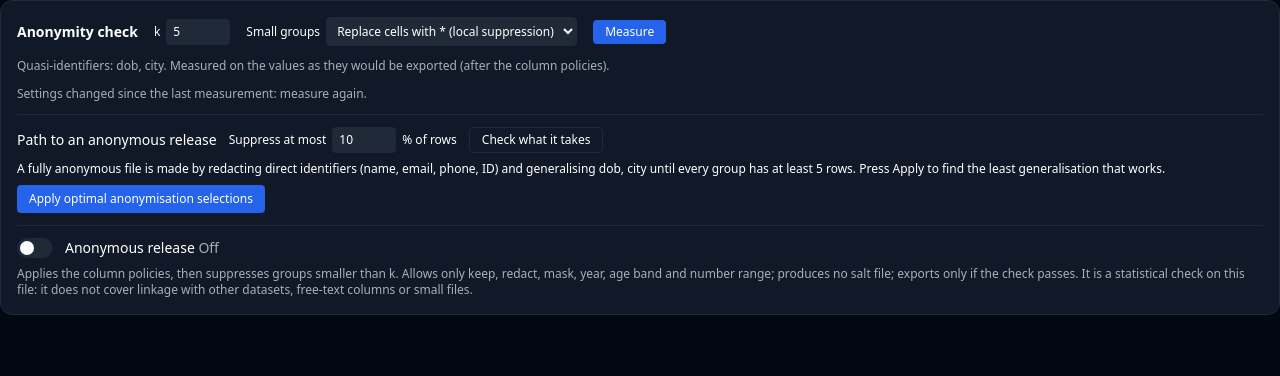
Test: AnonymityPanel › shows no blockers until the switch is on, then names the offending columns
Click the switch labelled "Anonymous release". click: point(118, 248)
box: top-left (17, 238), bottom-right (219, 258)
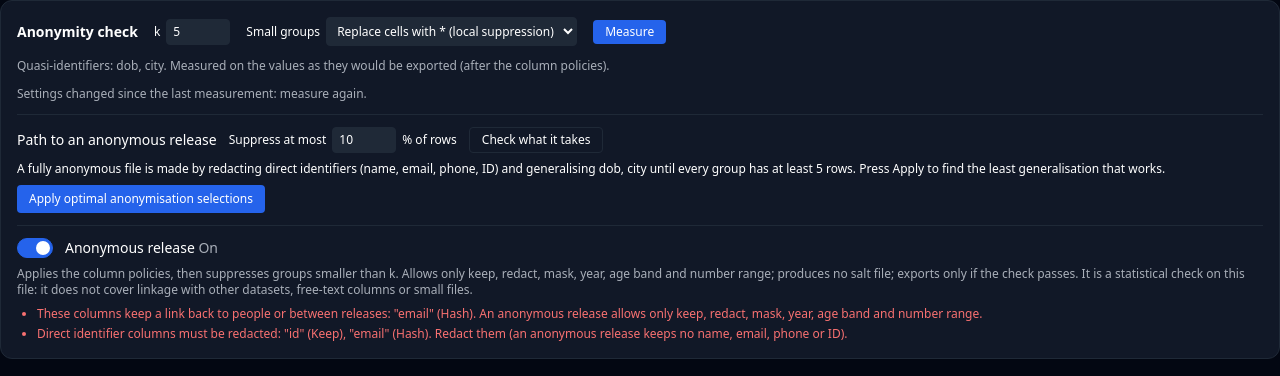
Check: the message named "Anonymous release blockers" shows "\"email\" (Hash)", box top-left (37, 305), bottom-right (982, 322)
Check: the message named "Anonymous release blockers" shows "Direct identifier columns must be redacted: \"id\" (Keep)", box top-left (37, 325), bottom-right (848, 342)
